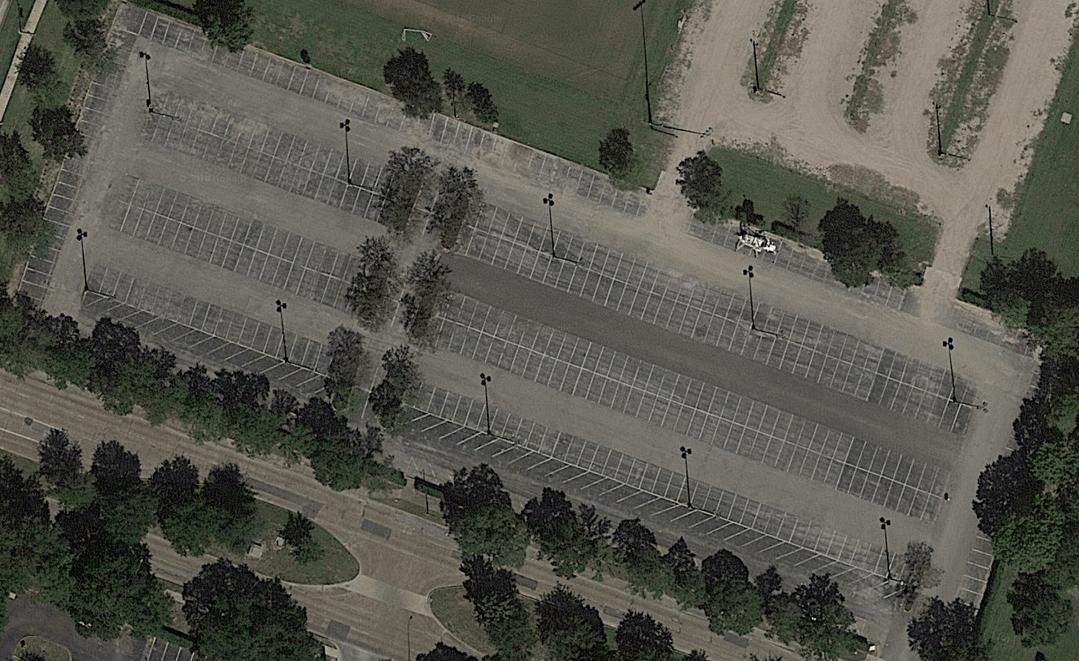parkingspot: (107, 199, 945, 527), (84, 261, 923, 588), (138, 111, 975, 438), (117, 172, 952, 499), (148, 85, 984, 409), (78, 295, 914, 601), (136, 10, 647, 219), (15, 27, 139, 303), (772, 238, 911, 313), (949, 299, 1047, 361), (953, 533, 1000, 611), (684, 208, 745, 254), (409, 452, 459, 494), (147, 634, 183, 661)
